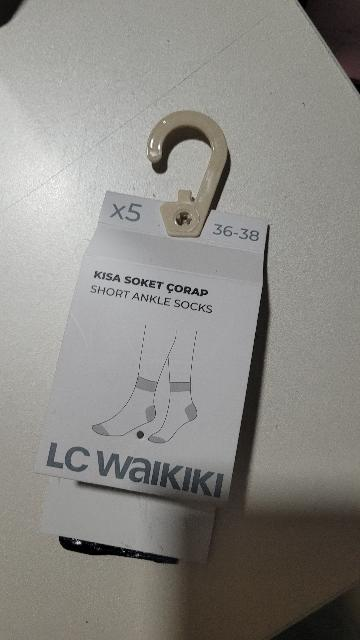Kagit: (41, 191, 274, 541)
Plastik: (149, 111, 229, 239)
